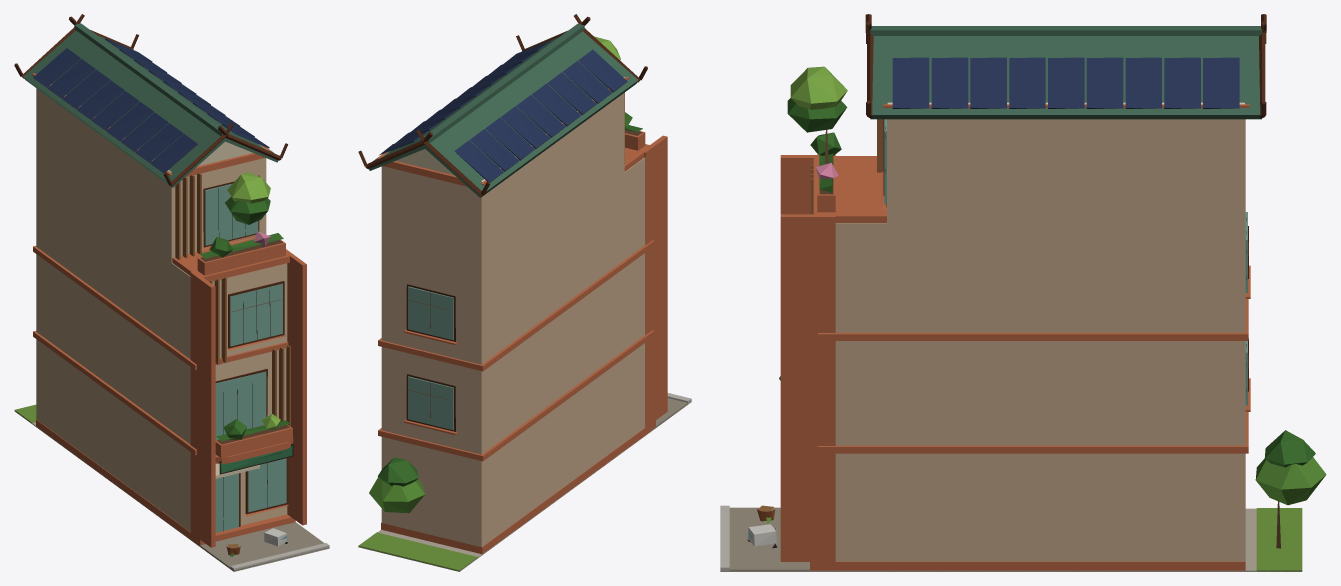
The model's file is bay2_mid2.glb.
3 views of the same model, side by side, from view 1: azimuth 30°, elevation 25°; view 2: azimuth 150°, elevation 25°; view 3: azimuth 270°, elevation 25° (orthographic). The views are drawn at different scales.
Visible parts, largest first — view 1: body; view 2: body; view 3: body.
Part boxes in pixels (x1,y1,x2,y2): body: [14, 14, 329, 571]; body: [358, 14, 691, 571]; body: [720, 14, 1326, 571].
Size of the model in its own units: 5.23 by 16.16 by 16.56.
